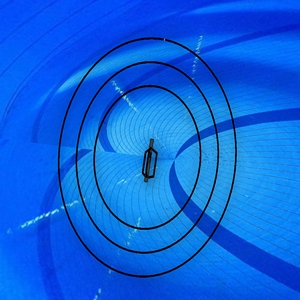circle: (55, 34, 244, 282)
submarine: (137, 138, 163, 184)
